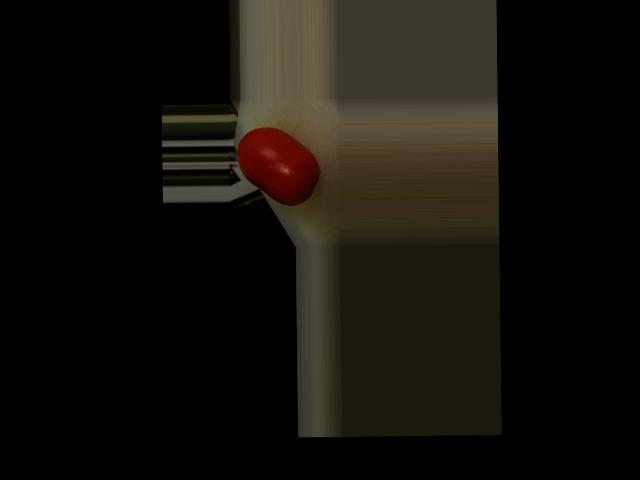tomato: (236, 126, 320, 206)
